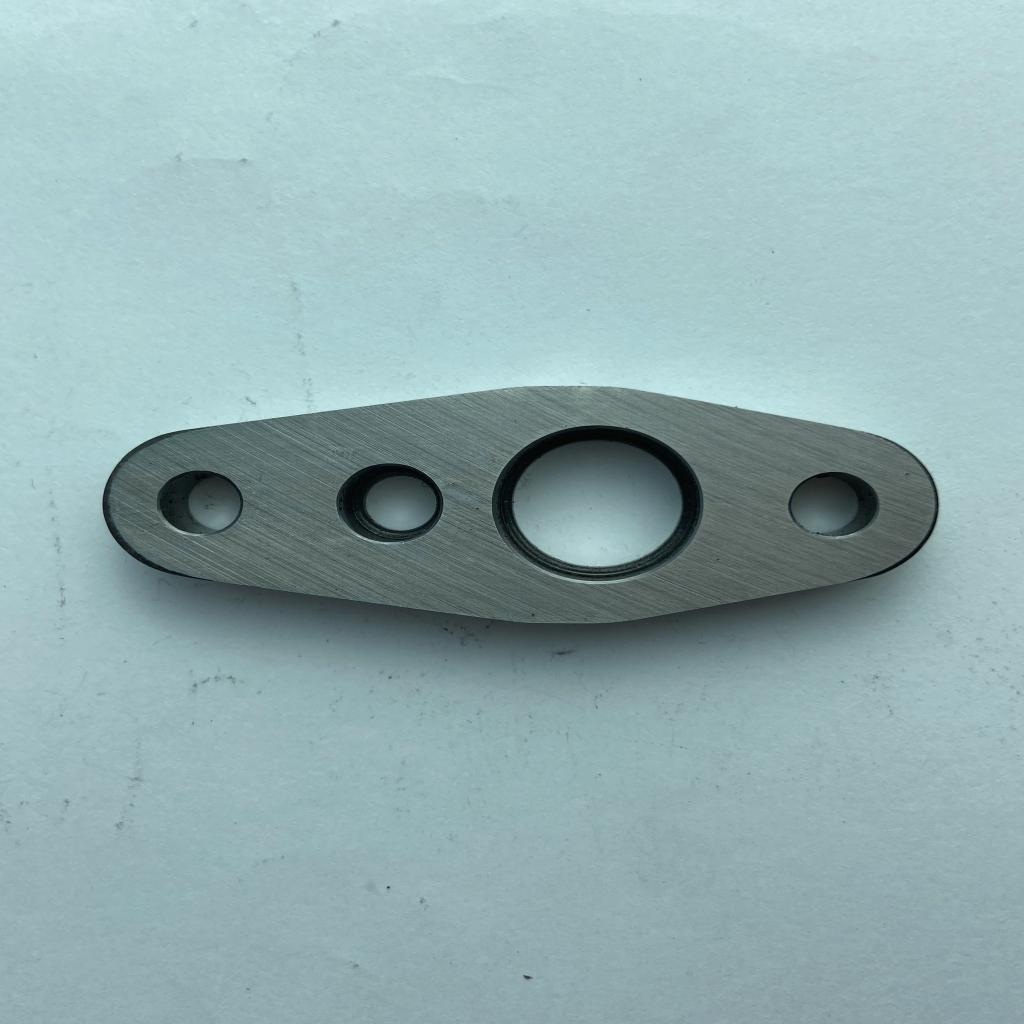chap: (528, 610, 539, 620), (900, 471, 912, 478)
